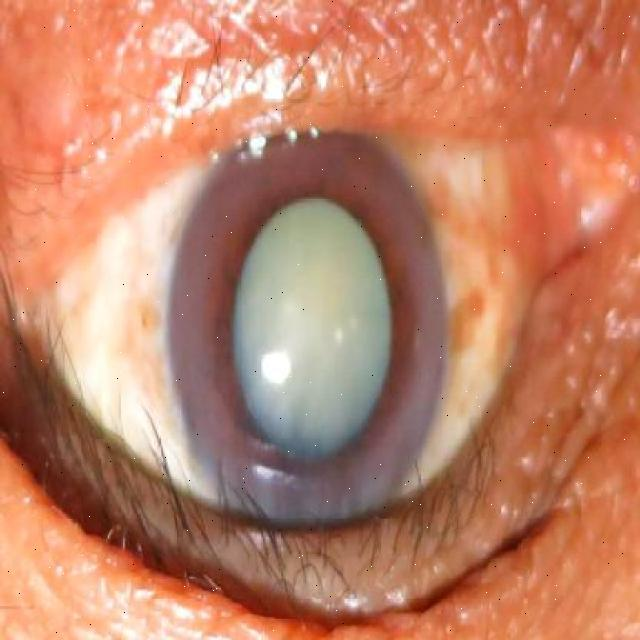Cataract: (165, 120, 452, 519)
